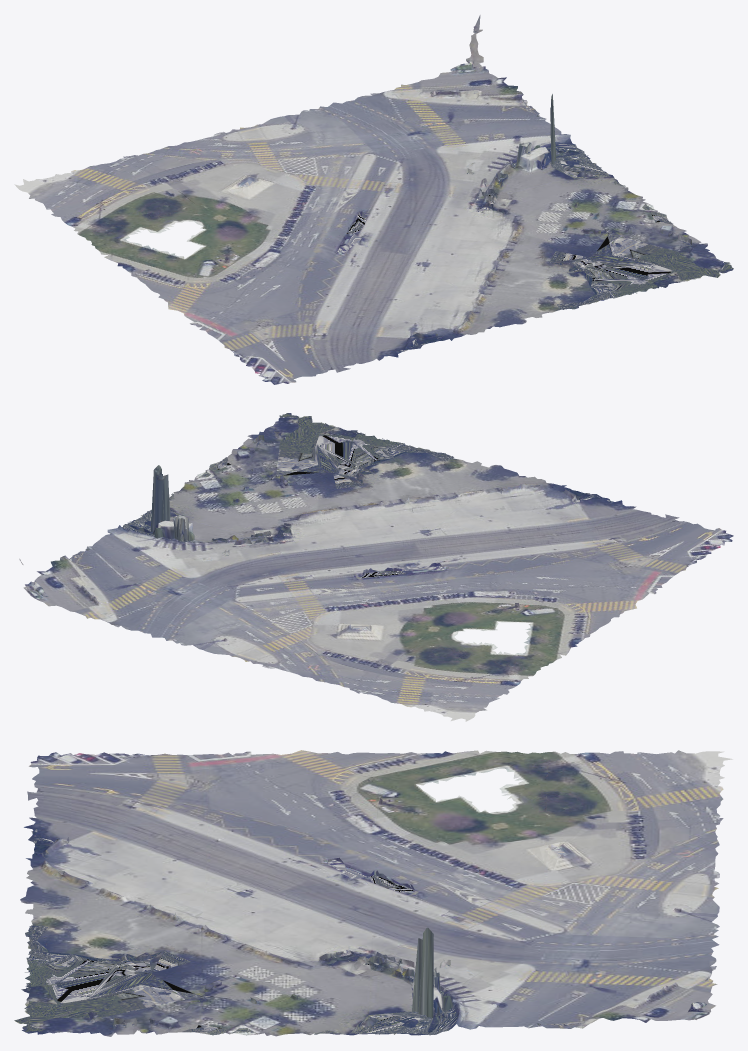
3 views of the same model, one above another, from view 1: azimuth 30°, elevation 25°; view 2: azimuth 150°, elevation 25°; view 3: azimuth 270°, elevation 25° (orthographic). The views are drawn at different scales.
Size of the model in its own units: 104 by 16.16 by 106.
1 material, 1 textured.
